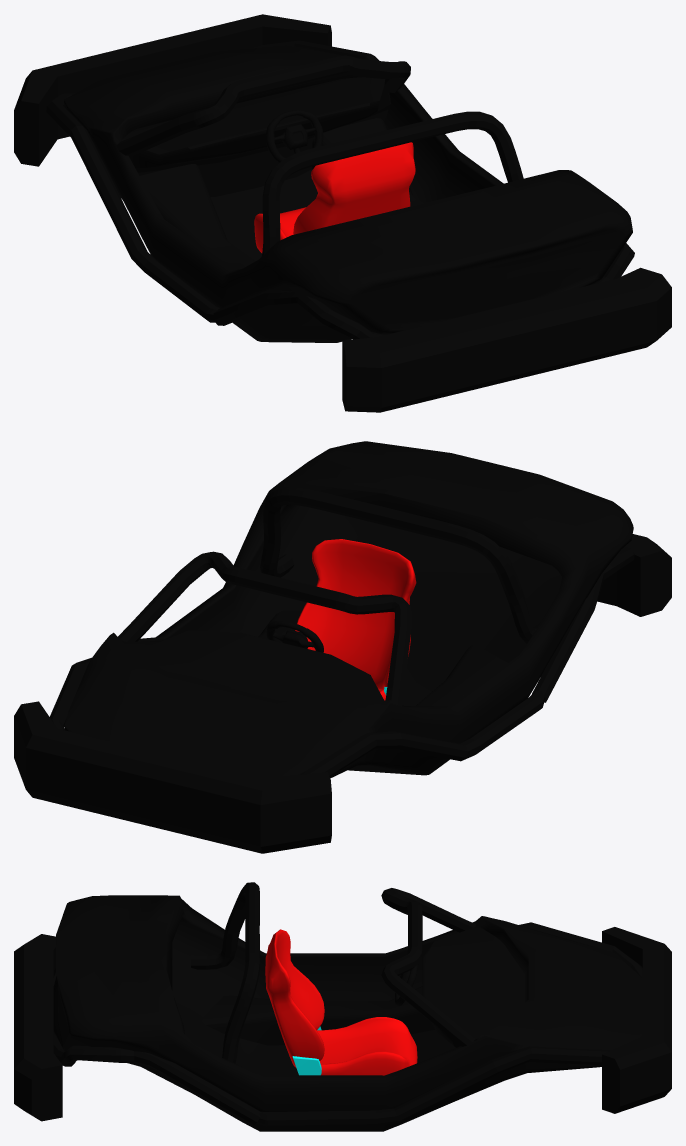
File: SM_Buggy_Body.fbx
3 views of the same model, one above another, from view 1: azimuth 30°, elevation 25°; view 2: azimuth 150°, elevation 25°; view 3: azimuth 270°, elevation 25° (orthographic). The views are drawn at different scales.
Parts seen in each view (by area): view 1: SM_Buggy_Float_Body; view 2: SM_Buggy_Float_Body; view 3: SM_Buggy_Float_Body.
Part boxes in pixels (x1,y1,x2,y2): SM_Buggy_Float_Body: (14,14,671,412); SM_Buggy_Float_Body: (14,441,671,853); SM_Buggy_Float_Body: (14,882,671,1131).
Size of the model in its own units: 2.14 by 1.21 by 4.14.
